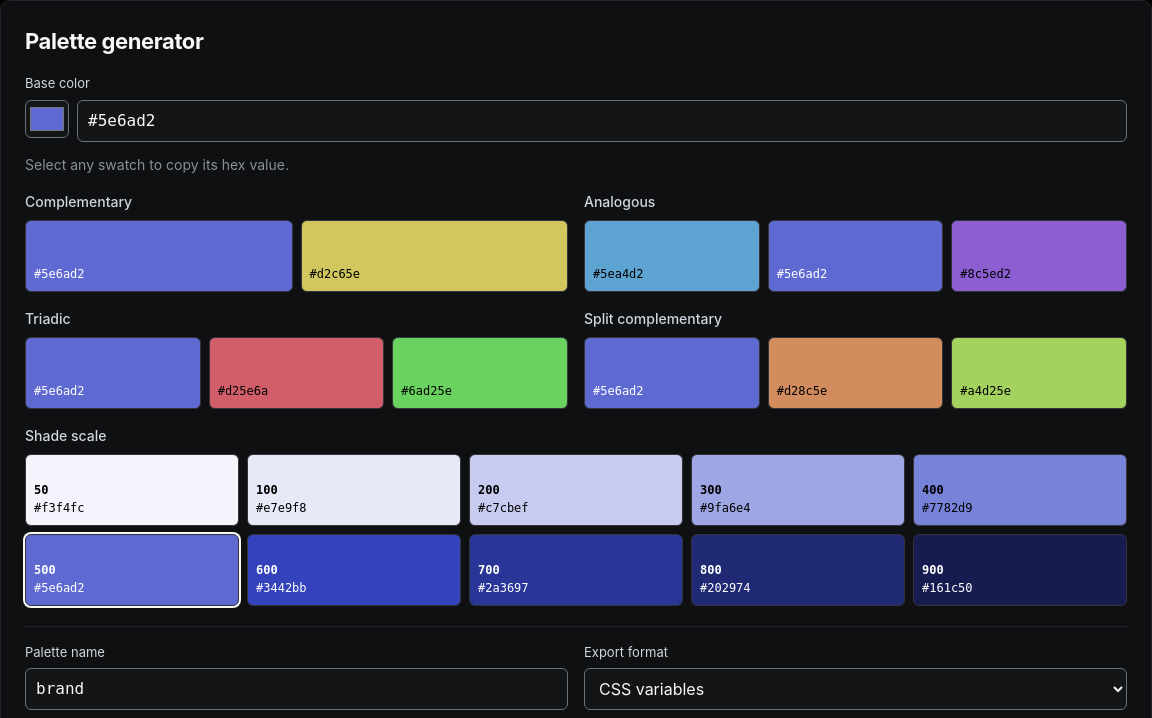
Test: PaletteGenerator › hides the palette for invalid input and notes grays
Replace the text in the field labelled "Base color" with "nope". click: point(602, 120)
box: [77, 100, 1127, 142]
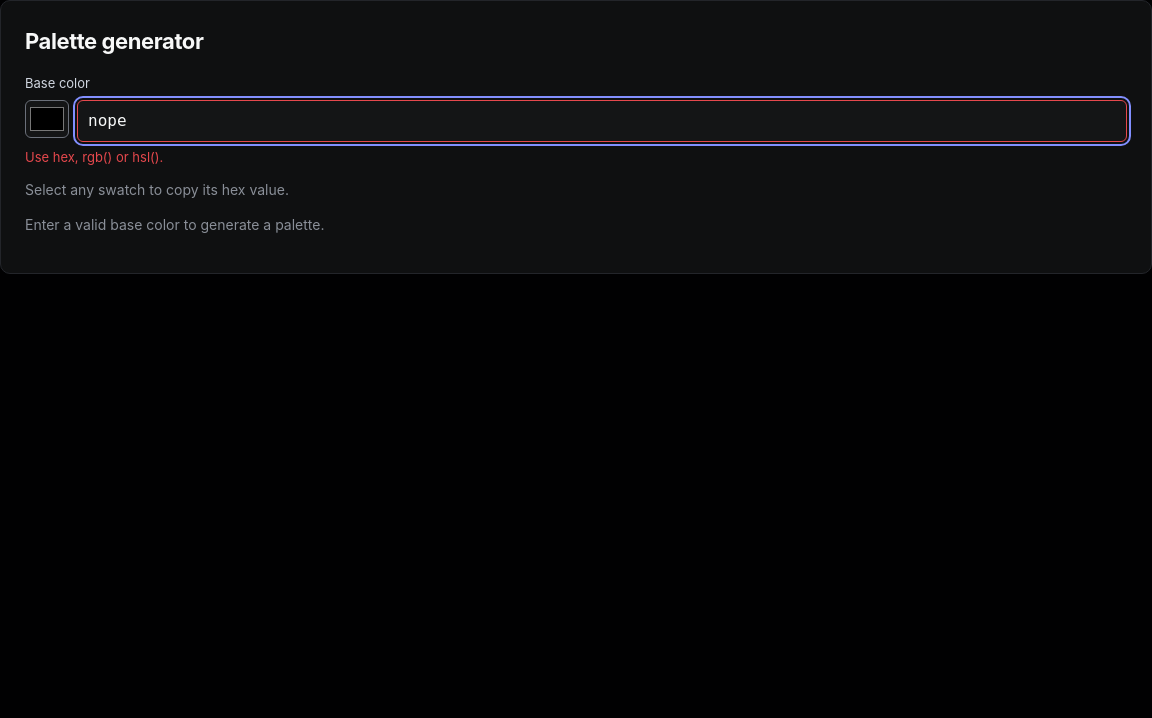
Check: the heading "Shade scale" is not shown
Replace the text in the field labelled "Base color" with "#808080". click: point(602, 120)
box: [77, 100, 1127, 142]
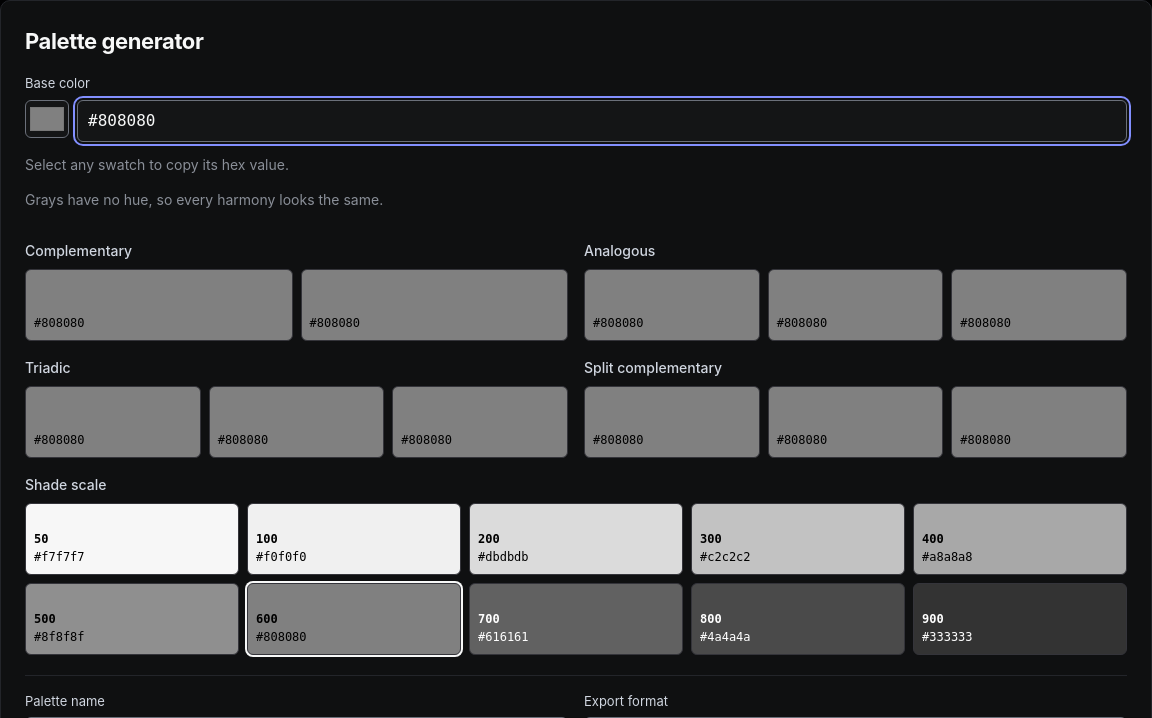
Check: the text "Grays have no hue, so every harmony looks the same." is shown, box [25, 190, 383, 208]
